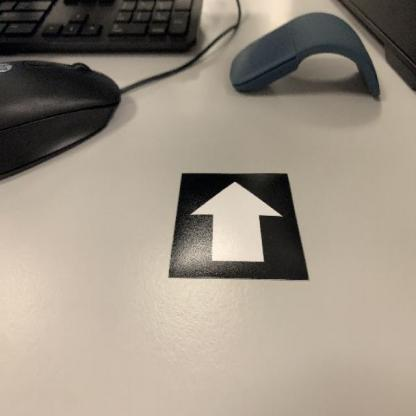up: (167, 170, 312, 284)
